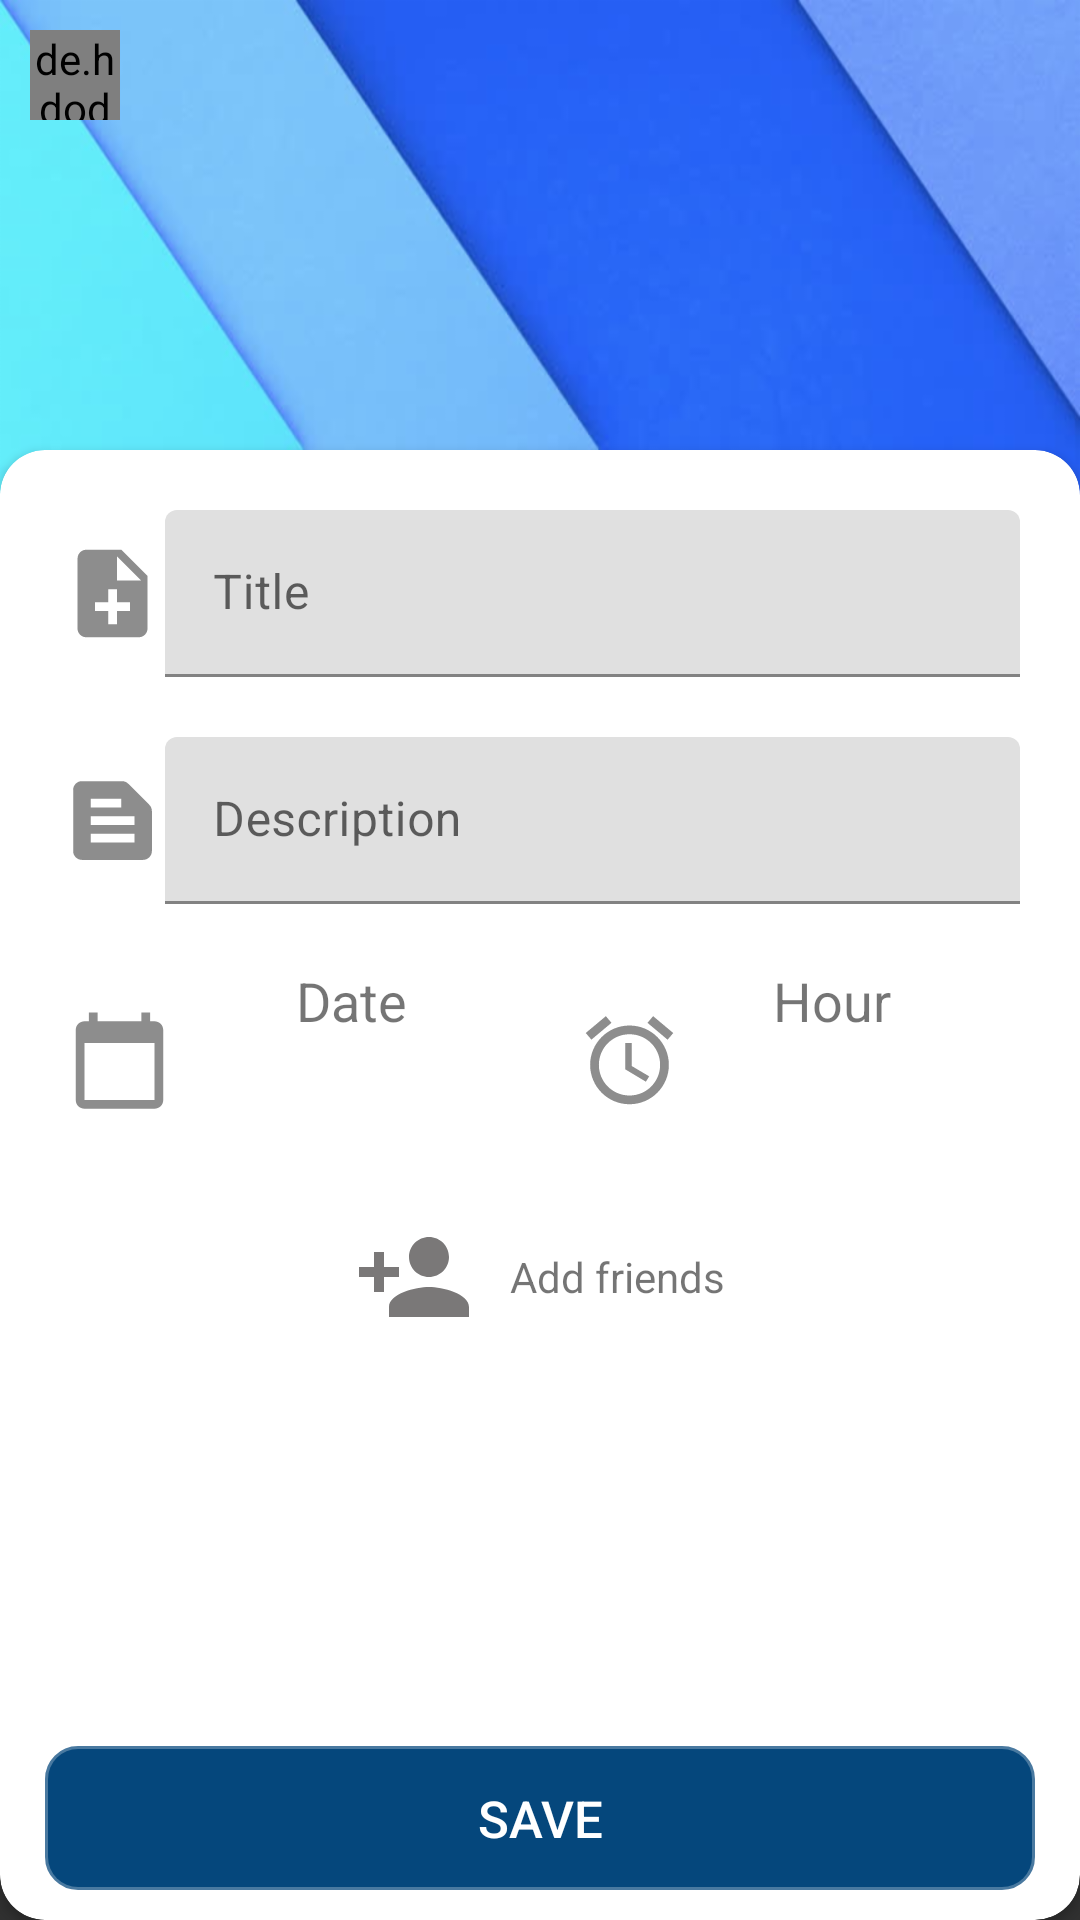

Where to tap for icons on this 1080 x 1920 app screen, as (x=x, y=y):
add person: (x=414, y=1277)
add task: (x=112, y=593)
alarm: (x=629, y=1060)
calendar: (x=119, y=1060)
text snippet: (x=112, y=820)
